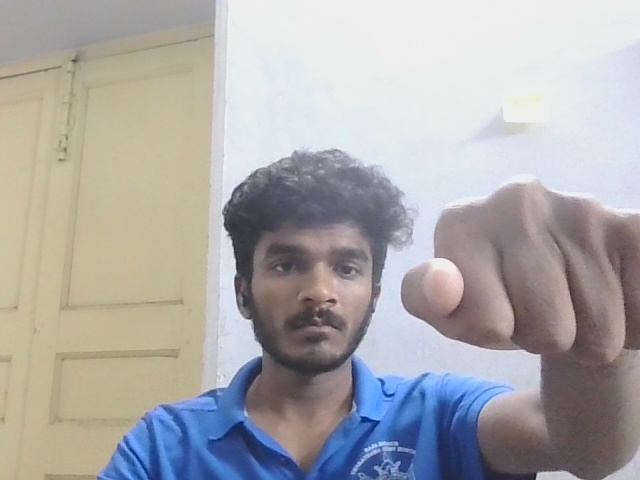yes: (384, 136, 640, 392)
